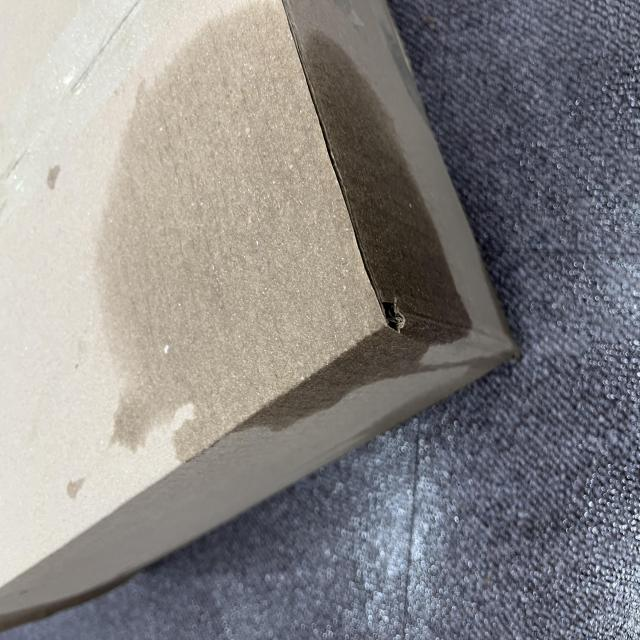wet: (146, 119, 478, 616)
